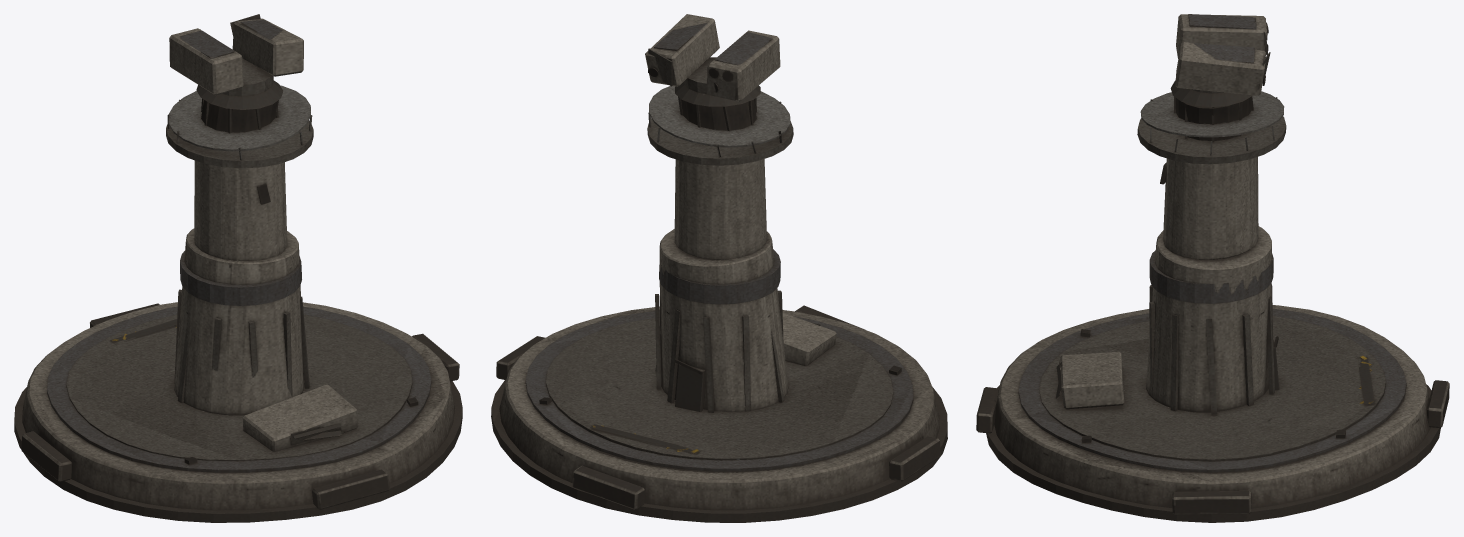
File: ord_pharos_wreck.fbx
3 views of the same model, side by side, from view 1: azimuth 30°, elevation 25°; view 2: azimuth 150°, elevation 25°; view 3: azimuth 270°, elevation 25° (orthographic).
Parts seen in each view (by area): view 1: base_bar, launcher_bar; view 2: base_bar, launcher_bar; view 3: base_bar, launcher_bar.
Part boxes in pixels (x1,y1,x2,y2): base_bar: [14, 80, 462, 522]; launcher_bar: [169, 14, 303, 96]; base_bar: [491, 82, 947, 522]; launcher_bar: [645, 14, 780, 101]; base_bar: [976, 80, 1449, 522]; launcher_bar: [1175, 14, 1270, 95].
Bounding box in the file's own units: 2351 × 2325 × 2352.
Materials: 2 (2 with a texture image).
